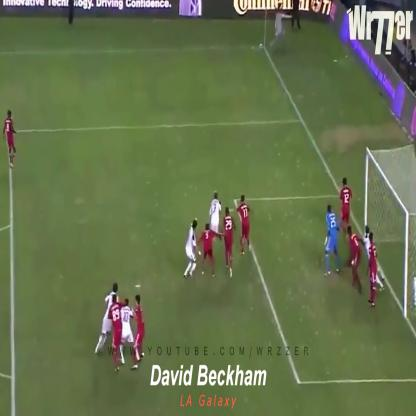corner kick: (243, 1, 306, 113)
